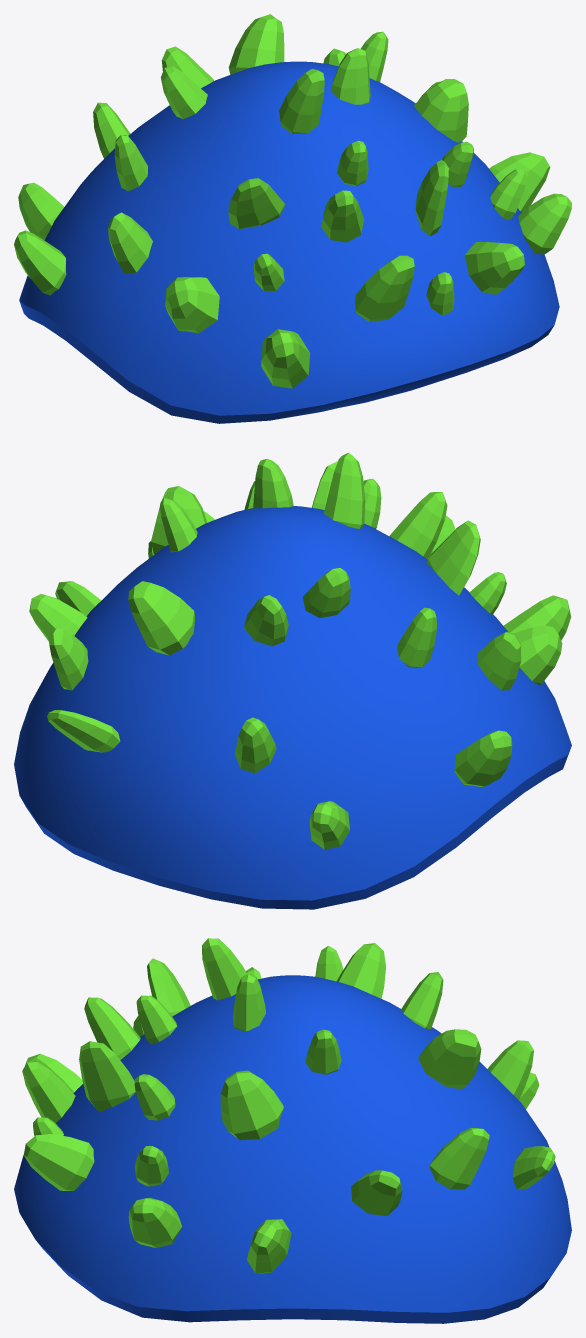
Rendered from coral 1.fbx.
3 views of the same model, one above another, from view 1: azimuth 30°, elevation 25°; view 2: azimuth 150°, elevation 25°; view 3: azimuth 270°, elevation 25° (orthographic). The views are drawn at different scales.
Visible parts, largest first — view 1: Sphere, Cube.003, Cube.020, Cube.029, Cube.031, Cube.032, Cube.017, Cube.035, Cube.024, Cube.026, Cube.027, Cube.004 (+15 smaller); view 2: Sphere, Cube.017, Cube.024, Cube.027, Cube.026, Cube.011, Cube.020, Cube.016, Cube.004, Cube.023, Cube.030, Cube.019 (+11 smaller); view 3: Sphere, Cube.031, Cube.029, Cube.017, Cube.034, Cube.023, Cube.035, Cube.003, Cube.011, Cube.026, Cube.013, Cube.010 (+12 smaller).
Part boxes in pixels (x1,y1,x2,y2): Sphere: (19,61,559,423); Cube.003: (355,255,414,322); Cube.020: (165,277,219,333); Cube.029: (464,242,524,294); Cube.031: (413,79,468,142); Cube.032: (261,329,310,388); Cube.017: (228,14,284,74); Cube.035: (518,193,571,254); Cube.024: (14,230,66,295); Cube.026: (279,68,324,133); Cube.027: (228,178,284,228); Cube.004: (108,212,152,273); Sphere: (14,506,571,909); Cube.017: (128,581,194,655); Cube.024: (454,730,512,786); Cube.027: (426,520,480,595); Cube.026: (323,452,365,529); Cube.011: (389,492,447,559); Cube.020: (512,625,562,685); Cube.016: (47,710,120,752); Cube.004: (477,632,521,690); Cube.023: (48,627,88,690); Cube.030: (302,568,350,617); Cube.019: (397,607,436,667); Sphere: (14,975,571,1323); Cube.031: (220,1070,283,1140); Cube.029: (23,1134,94,1190); Cube.017: (418,1029,481,1089); Cube.034: (79,1041,135,1111); Cube.023: (429,1127,489,1189); Cube.035: (128,1197,182,1247); Cube.003: (22,1060,75,1123); Cube.011: (84,997,140,1059); Cube.026: (202,938,247,1000); Cube.013: (351,1170,402,1216); Cube.010: (247,1219,291,1273).
Size of the model in its own units: 110 by 65.37 by 107.
